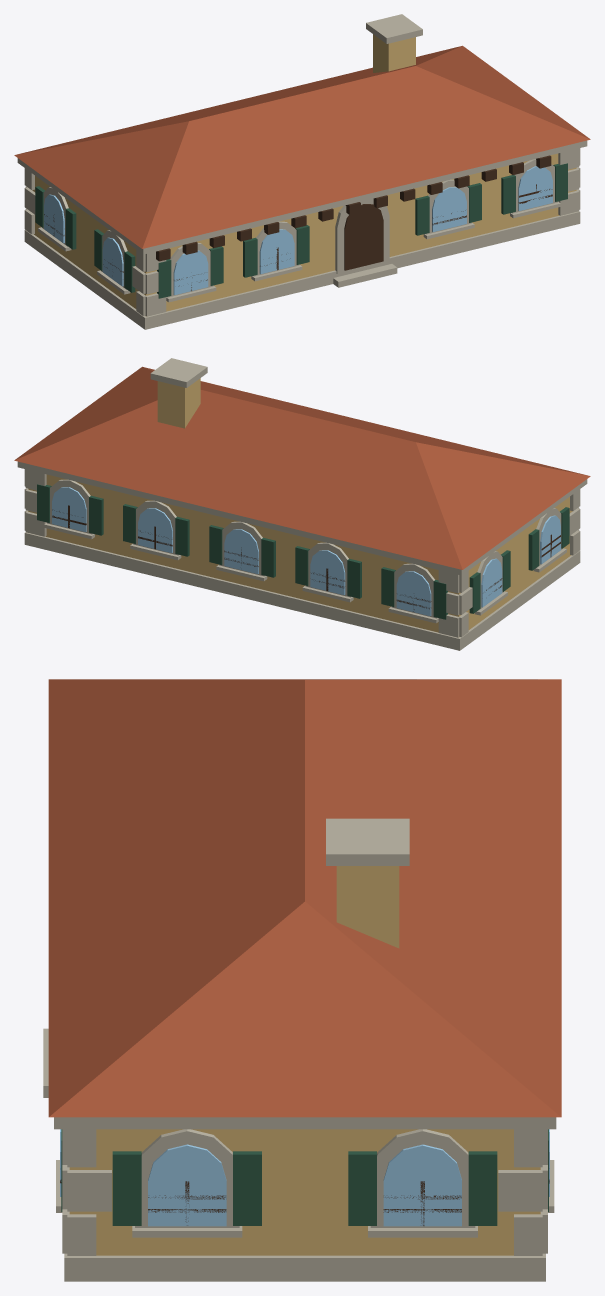
Rendered from house-2x1-1f-tuscan-a.glb.
3 renders of one model, top to bottom at view 1: azimuth 30°, elevation 25°; view 2: azimuth 150°, elevation 25°; view 3: azimuth 270°, elevation 25°, orthographic. The views are drawn at different scales.
Visible parts, largest first — view 1: house-2x1-1f-tuscan-a; view 2: house-2x1-1f-tuscan-a; view 3: house-2x1-1f-tuscan-a.
Part boxes in pixels (left/top/right/bottom): house-2x1-1f-tuscan-a: left=14, top=14, right=590, bottom=329; house-2x1-1f-tuscan-a: left=14, top=358, right=590, bottom=650; house-2x1-1f-tuscan-a: left=43, top=679, right=561, bottom=1281.
Bounding box in the file's own units: 1.98 × 0.712 × 0.99.
1 material, 1 textured.
